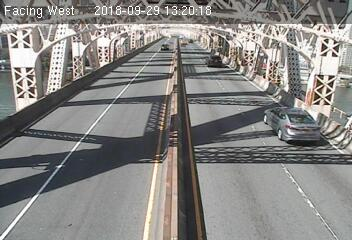car: (263, 104, 324, 145), (203, 53, 228, 70), (158, 42, 172, 52)
